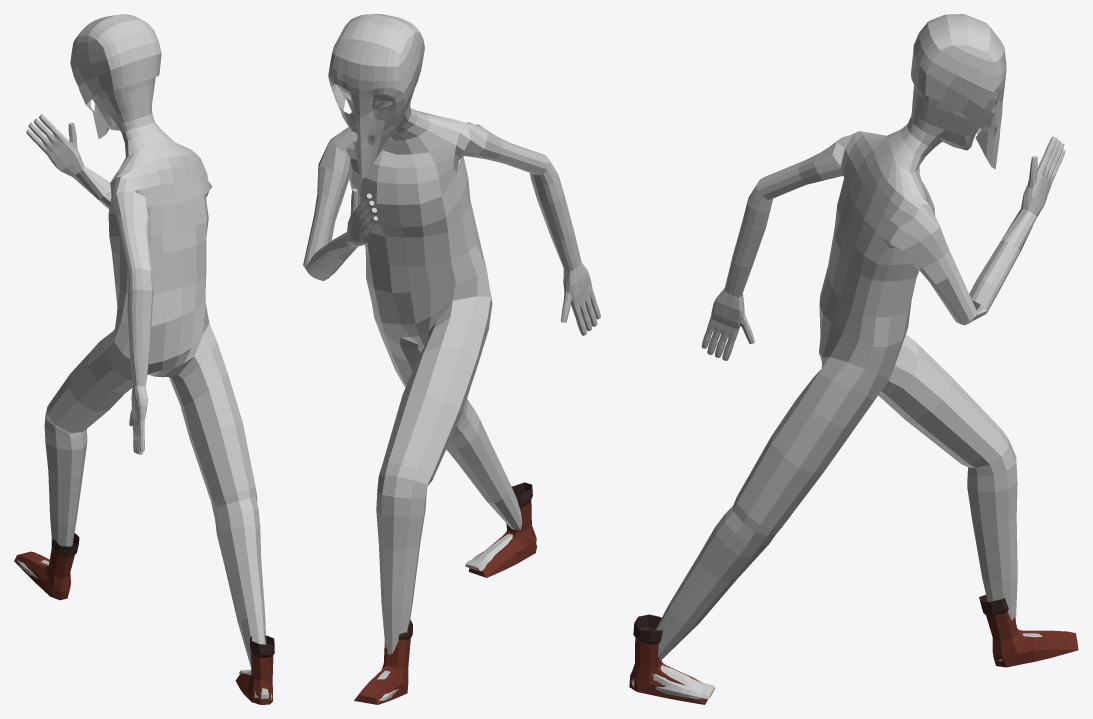
The model's file is marcha5_000040.obj.
3 views of the same model, side by side, from view 1: azimuth 30°, elevation 25°; view 2: azimuth 150°, elevation 25°; view 3: azimuth 270°, elevation 25° (orthographic). The views are drawn at different scales.
Parts seen in each view (by area): view 1: Plane.002_Plane.001, Plane.004, Plane.003; view 2: Plane.002_Plane.001, Plane.003, Plane.004; view 3: Plane.002_Plane.001, Plane.004, Plane.003.
Part boxes in pixels (left/top/right/bottom): Plane.002_Plane.001: left=17, top=14, right=272, bottom=700; Plane.004: left=14, top=533, right=79, bottom=600; Plane.003: left=235, top=635, right=274, bottom=704; Plane.002_Plane.001: left=303, top=14, right=600, bottom=700; Plane.003: left=468, top=482, right=536, bottom=577; Plane.004: left=354, top=620, right=412, bottom=704; Plane.002_Plane.001: left=630, top=14, right=1065, bottom=699; Plane.004: left=979, top=595, right=1078, bottom=667; Plane.003: left=629, top=614, right=707, bottom=704.
Size of the model in its own units: 1.85 by 6.48 by 3.95.
